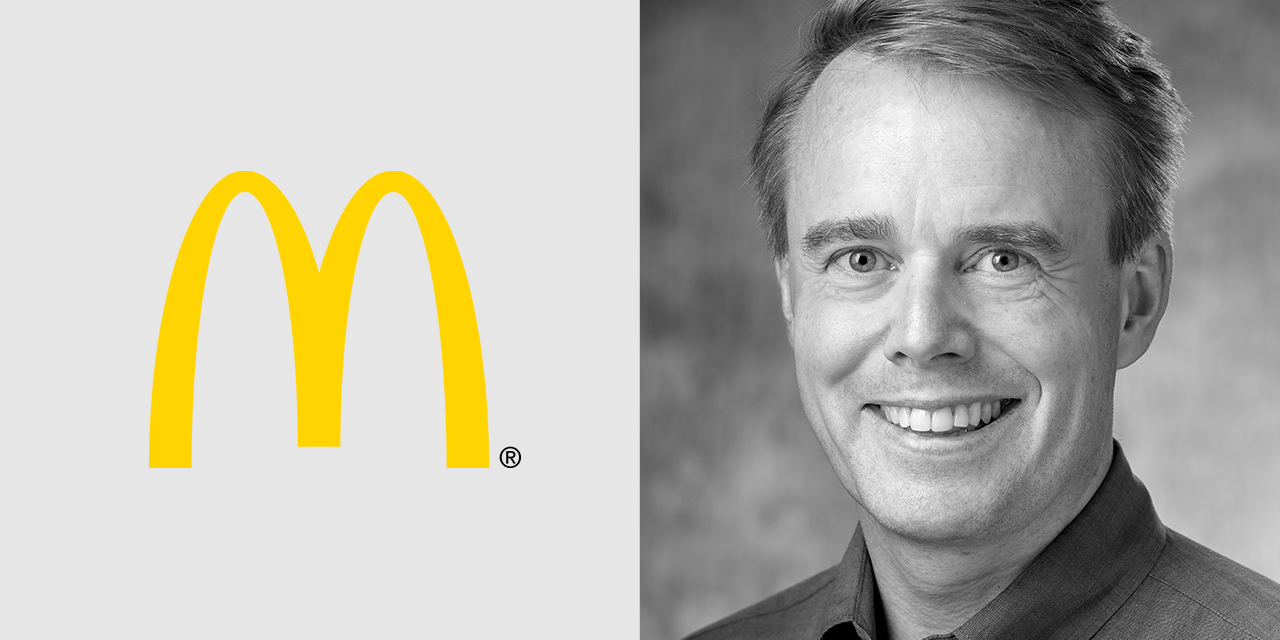mcdonalds: (146, 166, 487, 468)
